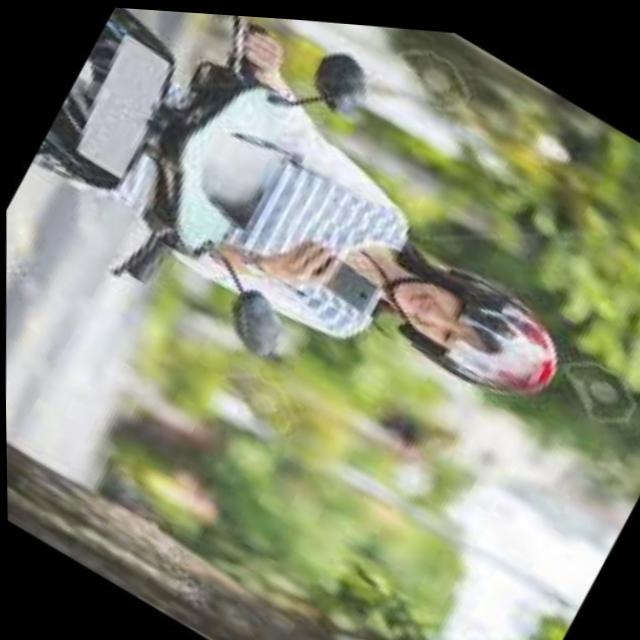USING_MOBILE: (215, 154, 578, 439)
